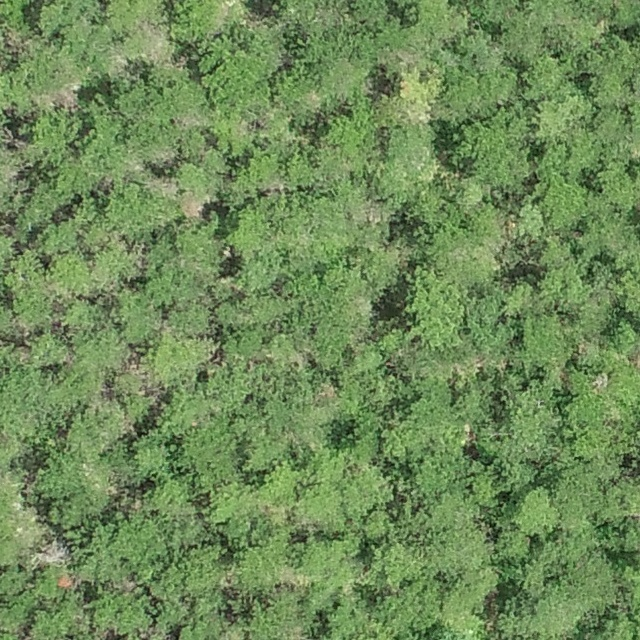unhealthy: (180, 192, 208, 222), (35, 541, 68, 566), (56, 84, 80, 111), (58, 574, 80, 590)
